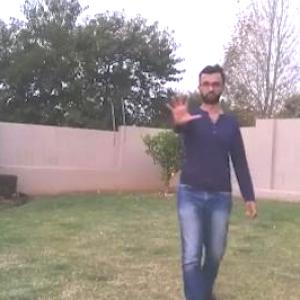follow_hand: (162, 82, 201, 128)
